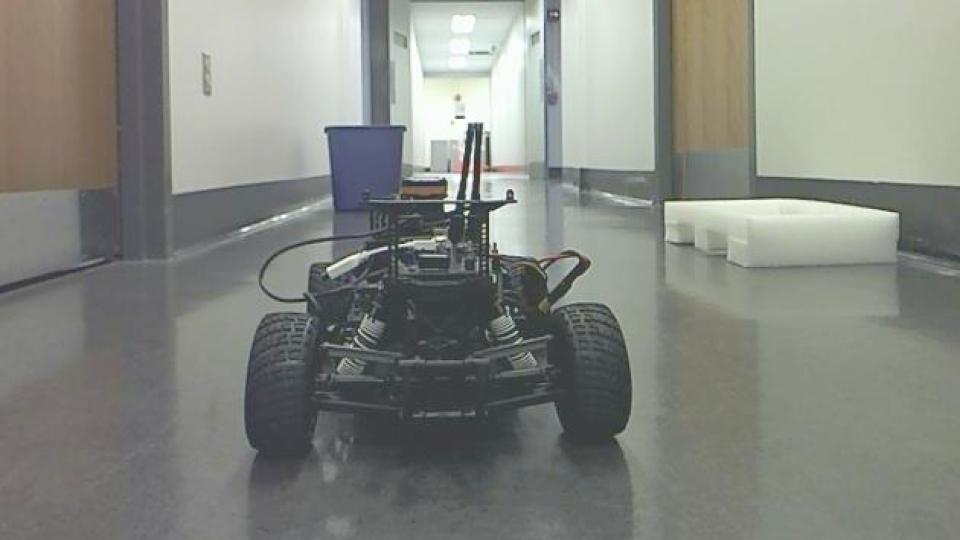car: (240, 120, 636, 461)
